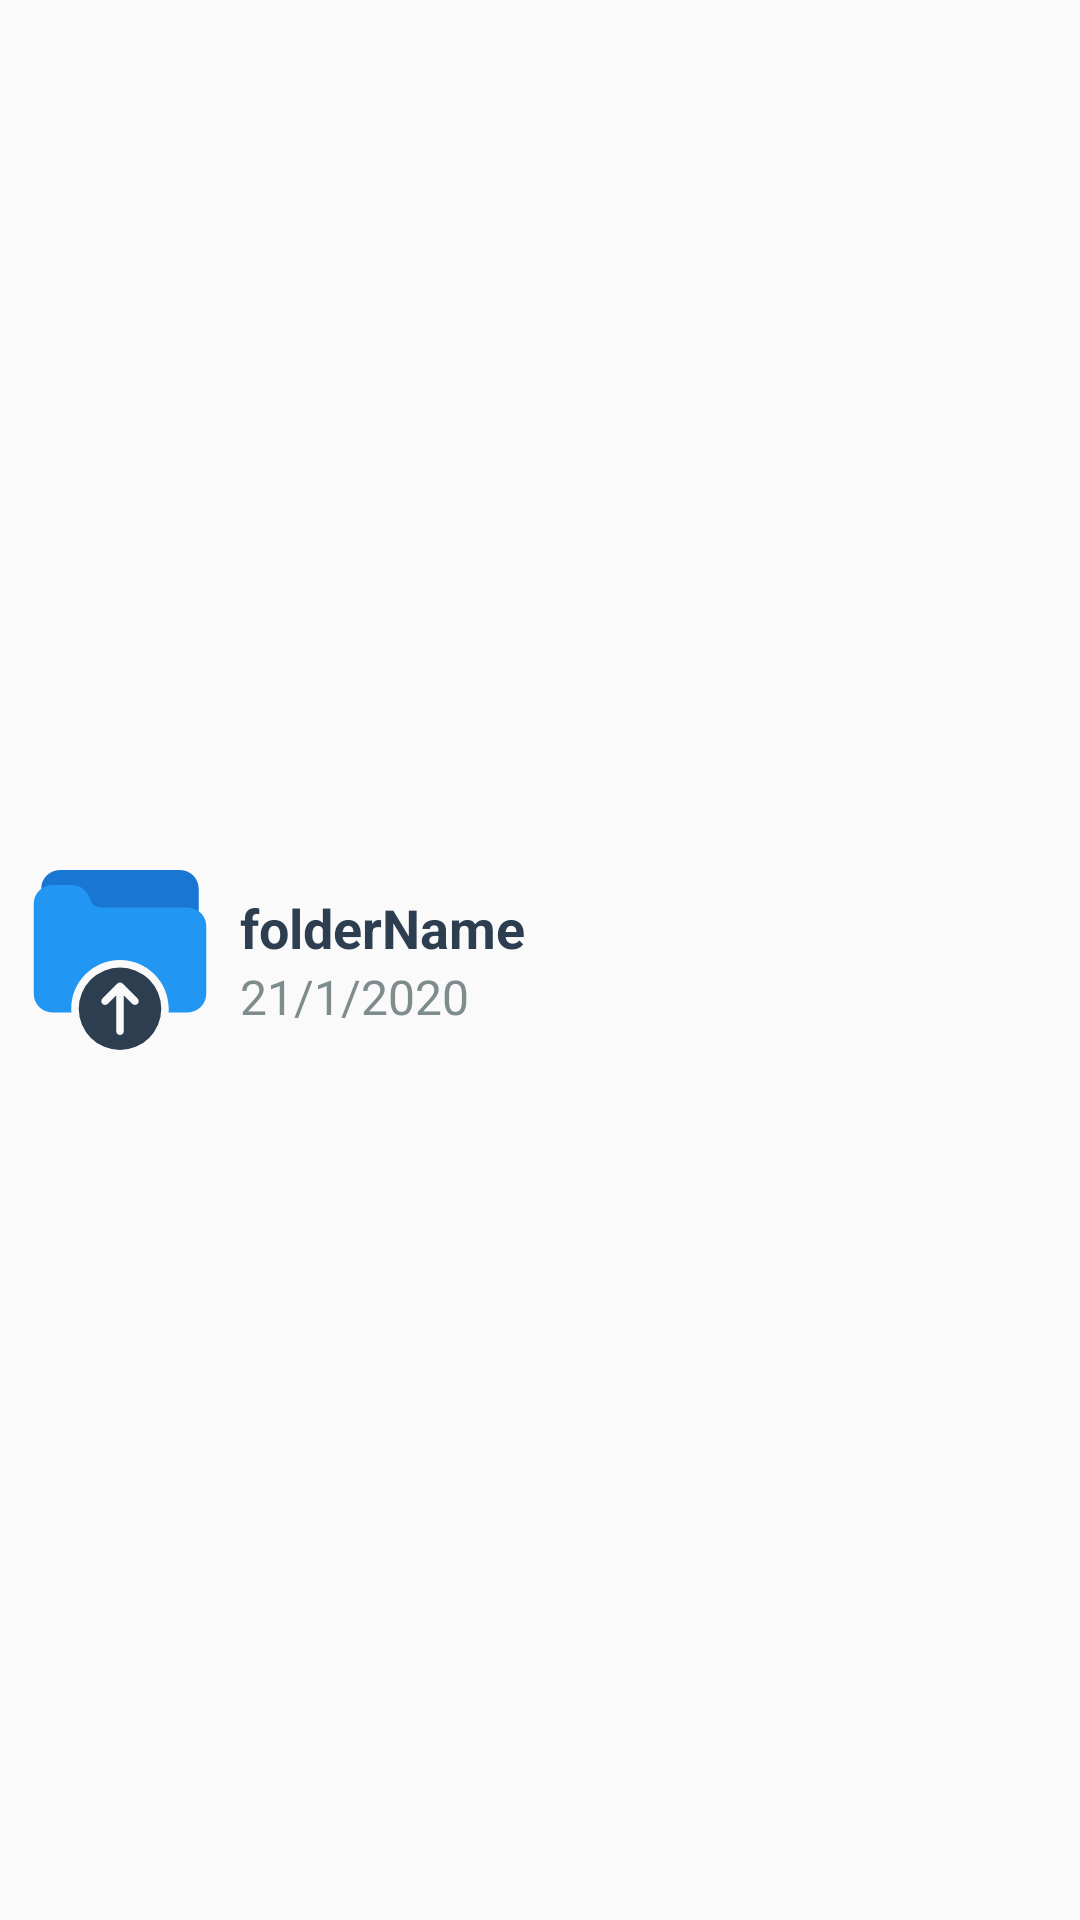

Named icons in this screenshot (1080 × 1920) and their bounding boxes, rect(x1, y1, x2, y2):
folder back: rect(33, 870, 207, 1050)
